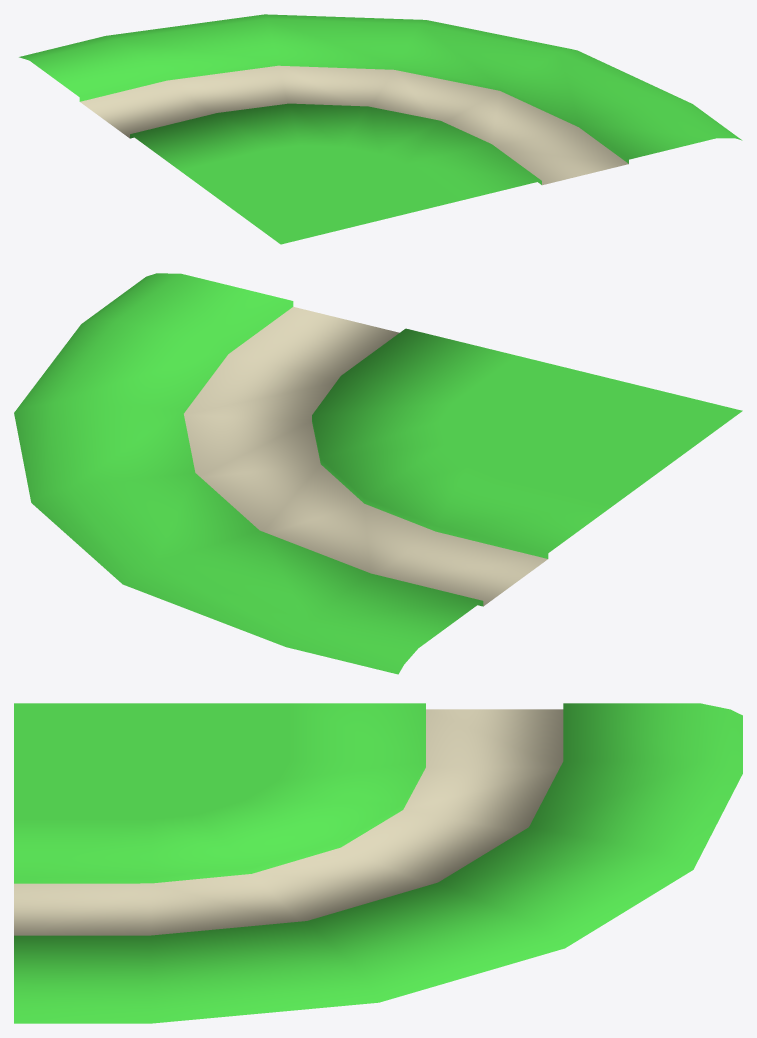
File: MDL_Grasscurve.fbx
The picture shows the model from 3 angles, top to bottom: view 1: azimuth 30°, elevation 25°; view 2: azimuth 150°, elevation 25°; view 3: azimuth 270°, elevation 25°; orthographic projection. The views are drawn at different scales.
Parts seen in each view (by area): view 1: mesh_grass.002; view 2: mesh_grass.002; view 3: mesh_grass.002.
Boxes of the visible parts, x1,y1,x2,y2 form: mesh_grass.002: (19,14,742,244); mesh_grass.002: (14,273,742,674); mesh_grass.002: (14,703,742,1023).
Bounding box in the file's own units: 531 × 9.79 × 531.
Materials: 1 (1 with a texture image).
